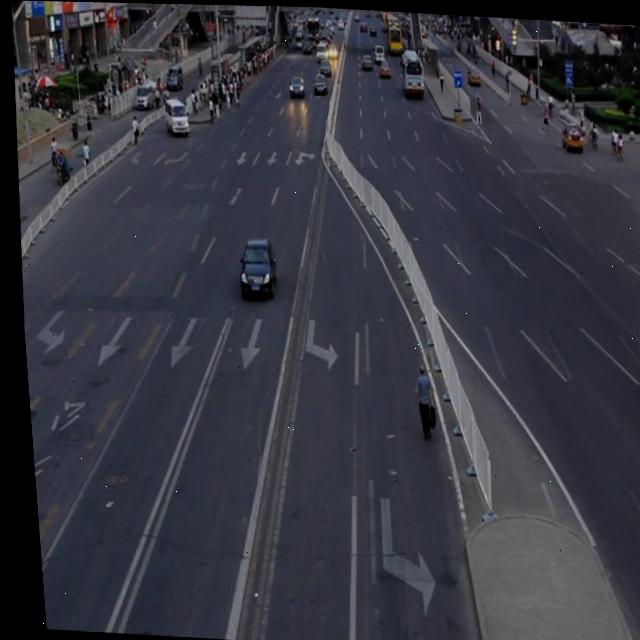car: (231, 234, 274, 296)
